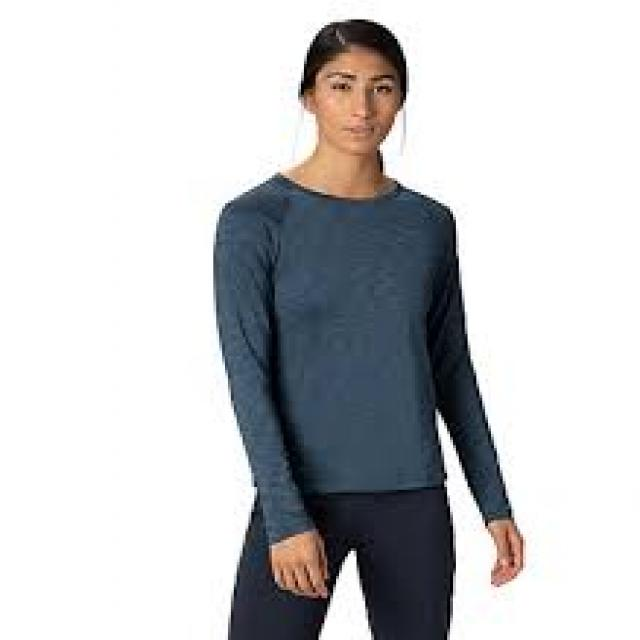plain: (200, 173, 487, 496)
